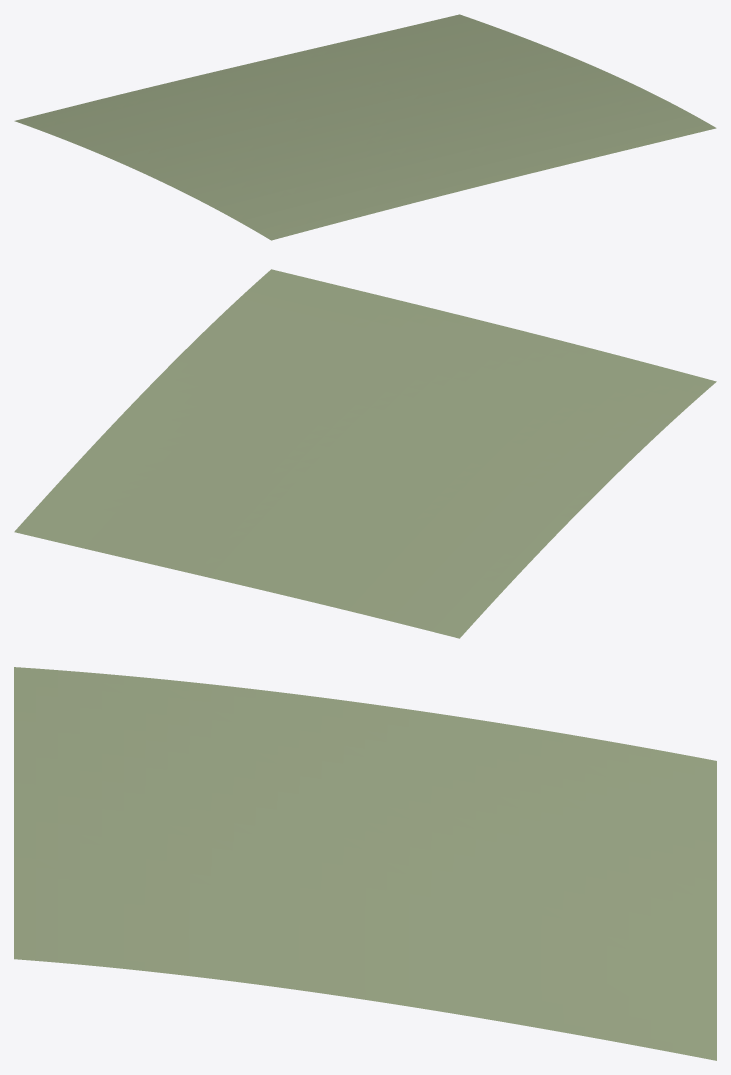
Rendered from expanse-27-6.glb.
The picture shows the model from 3 angles, top to bottom: view 1: azimuth 30°, elevation 25°; view 2: azimuth 150°, elevation 25°; view 3: azimuth 270°, elevation 25°; orthographic projection. The views are drawn at different scales.
Visible parts, largest first — view 1: expanse-27-6; view 2: expanse-27-6; view 3: expanse-27-6.
Boxes of the visible parts, bbox=[...] form: expanse-27-6: bbox=[14, 14, 716, 240]; expanse-27-6: bbox=[14, 269, 716, 638]; expanse-27-6: bbox=[14, 667, 716, 1060].
Size of the model in its own units: 256 by 41 by 256.
